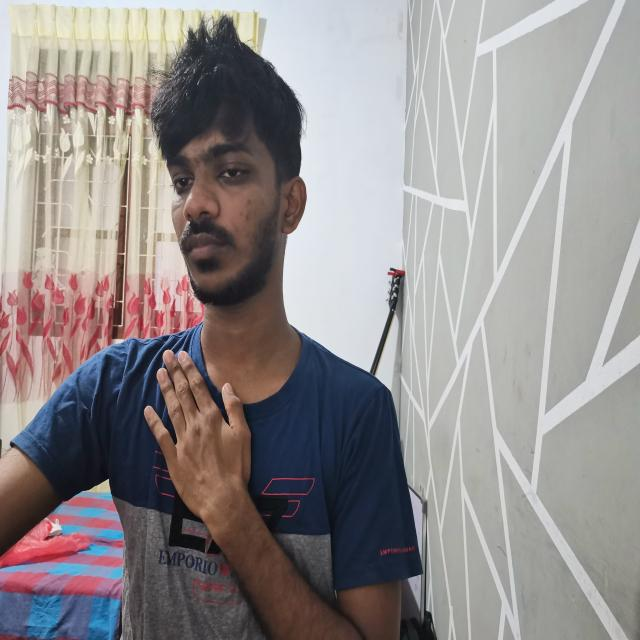Please: (134, 341, 420, 638)
